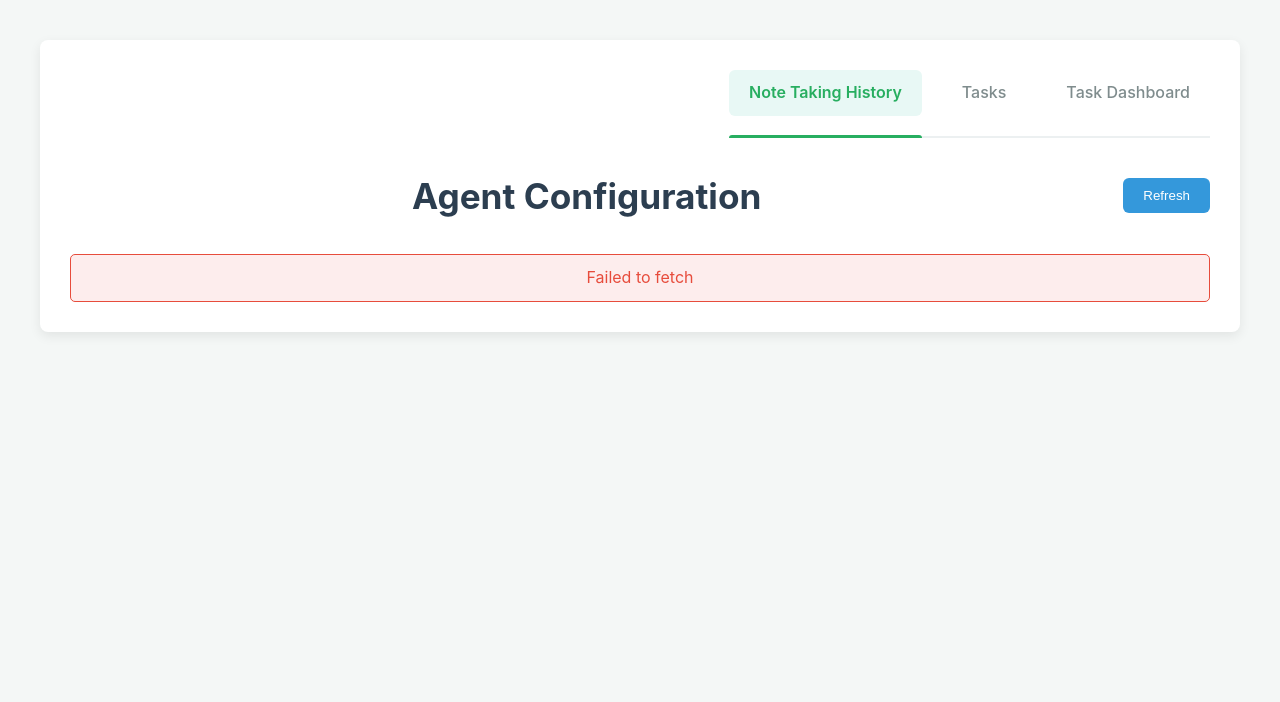
Test case: AgentConfigView › Refresh functionality › clears error state on successful refresh
The width and height of the screenshot is (1280, 702).
Expected: the text "Failed to fetch" is shown, [70,254,1210,302]
Click refresh
Step 1. Click the button "Refresh" → (1167, 196), box [1123,178,1210,213]
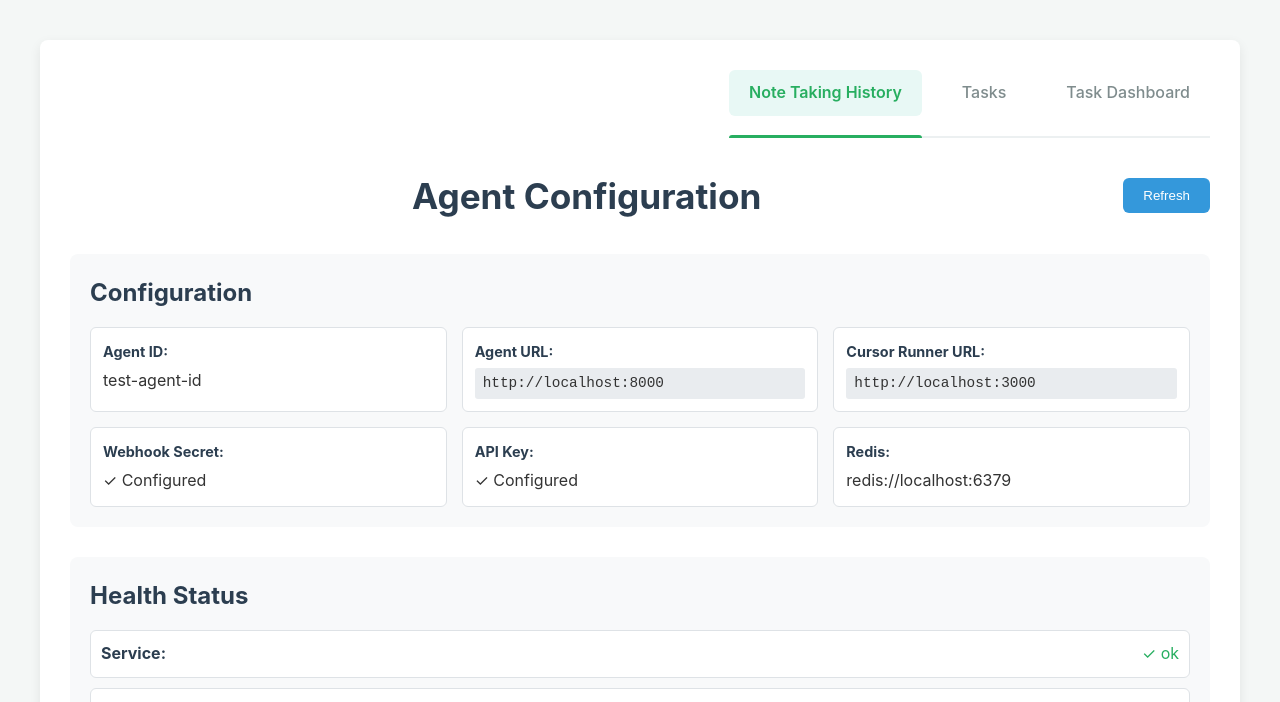
Expected: the text "test-agent-id" is shown, [103,370,202,390]
